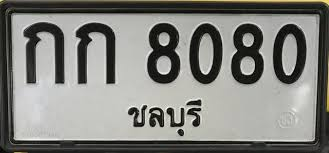txt01: (21, 20, 67, 86), (72, 20, 117, 86)
